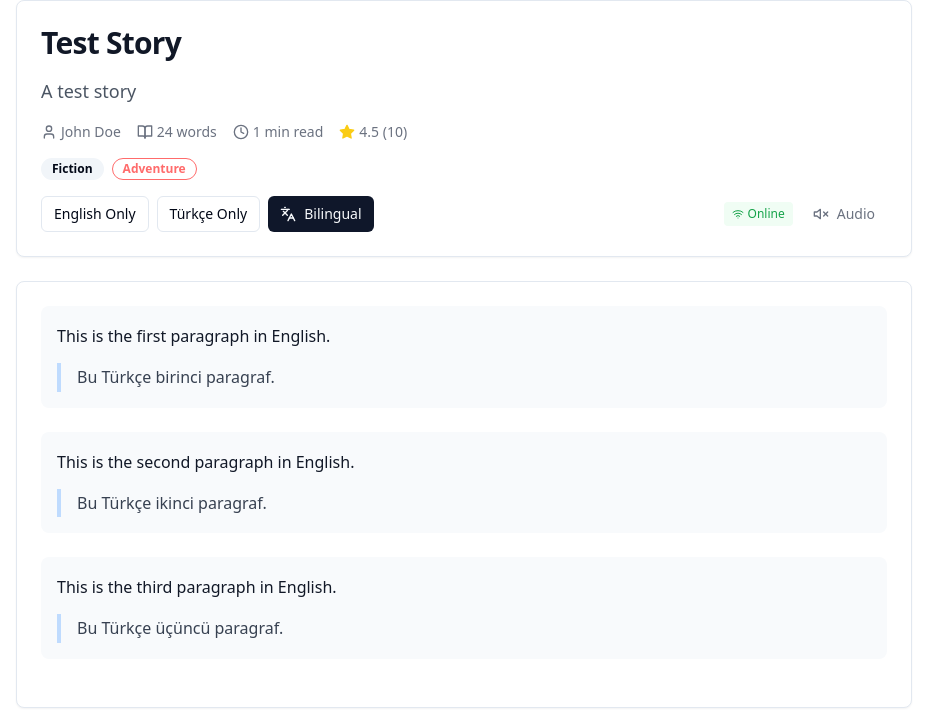
Test: StoryReader › should switch to Turkish when language toggle is clicked
The image size is (929, 725).
Step 1. Click the button "Türkçe Only" → (208, 214), box [157,196,260,232]
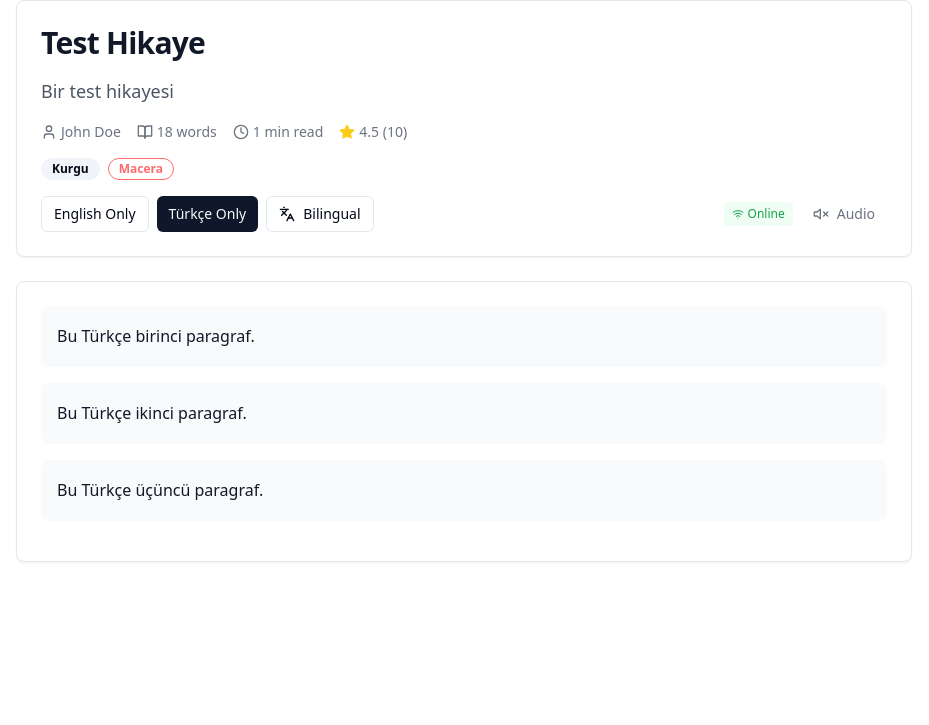
expect the heading "Test Hikaye" is shown: met, box [41,22,205,63]
expect the text "Bu Türkçe birinci paragraf." is shown: met, box [57,325,255,347]
